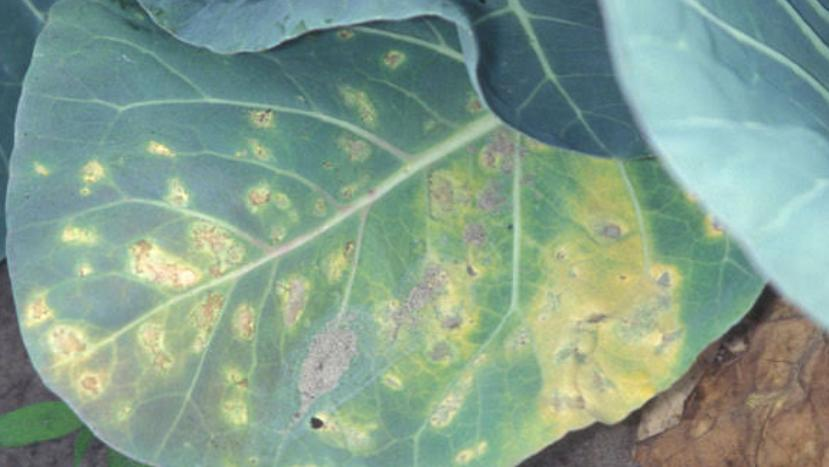Bok-Choy-Diseased: (19, 4, 758, 452)
